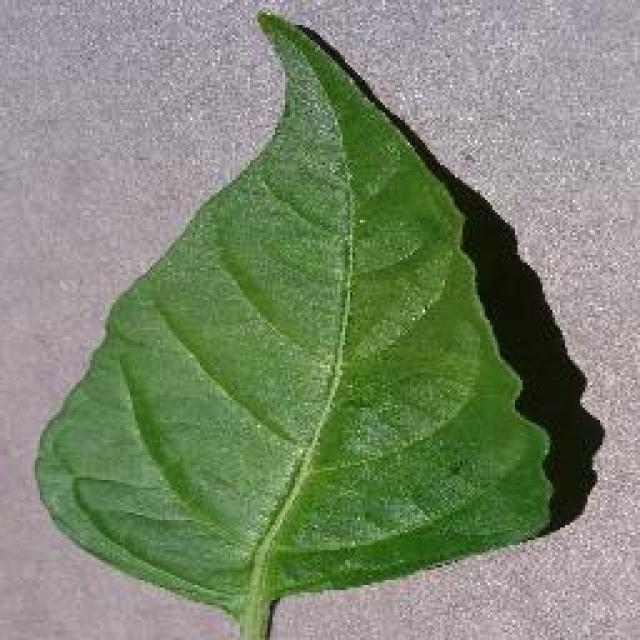healthy: (38, 12, 550, 638)
